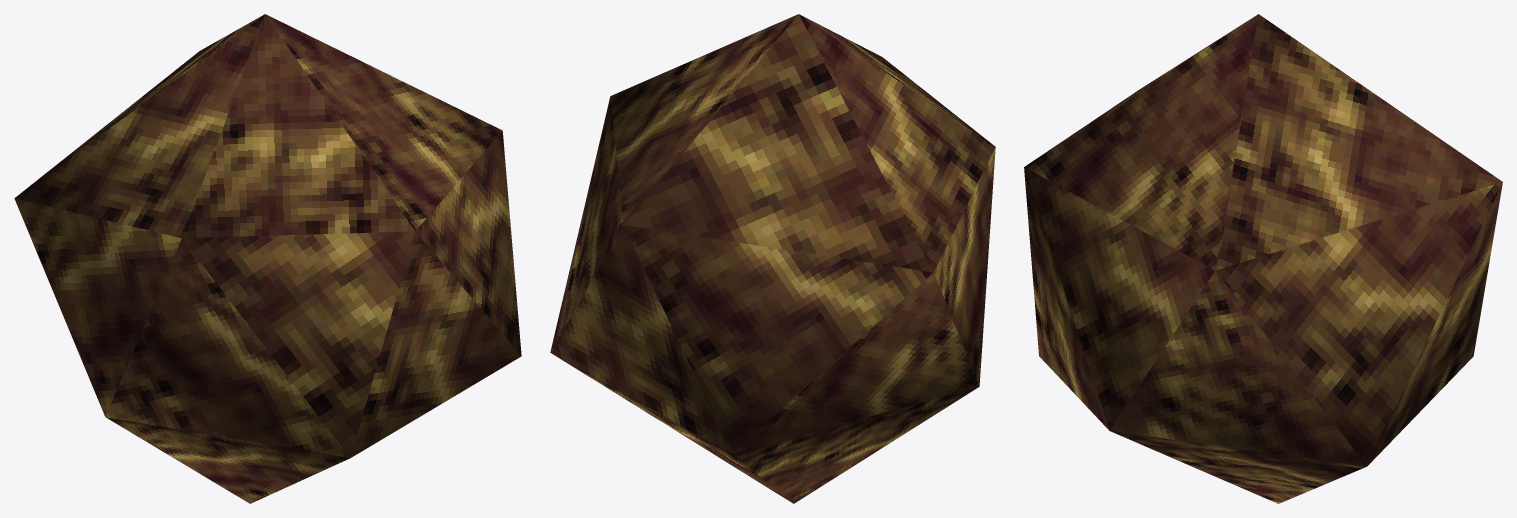
Rendered from big brown asteroid.dae.
3 views of the same model, side by side, from view 1: azimuth 30°, elevation 25°; view 2: azimuth 150°, elevation 25°; view 3: azimuth 270°, elevation 25° (orthographic). The views are drawn at different scales.
Visible parts, largest first — view 1: brown; view 2: brown; view 3: brown.
Boxes of the visible parts, x1=… form: brown: x1=14, y1=14, x2=521, y2=503; brown: x1=550, y1=14, x2=995, y2=503; brown: x1=1024, y1=14, x2=1502, y2=503.
Bounding box in the file's own units: 279 × 322 × 284.
1 material, 1 textured.
